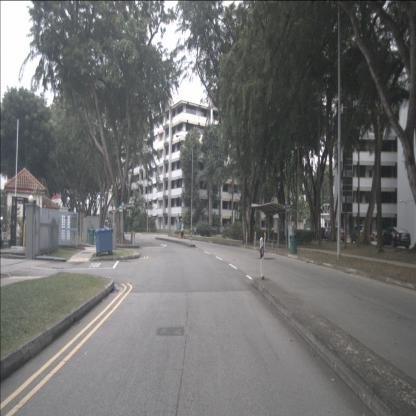human-pedestrian-adult: (194, 225, 197, 236)
vehicle-car: (381, 226, 411, 250), (350, 225, 368, 245), (331, 226, 345, 243), (319, 226, 329, 240)
